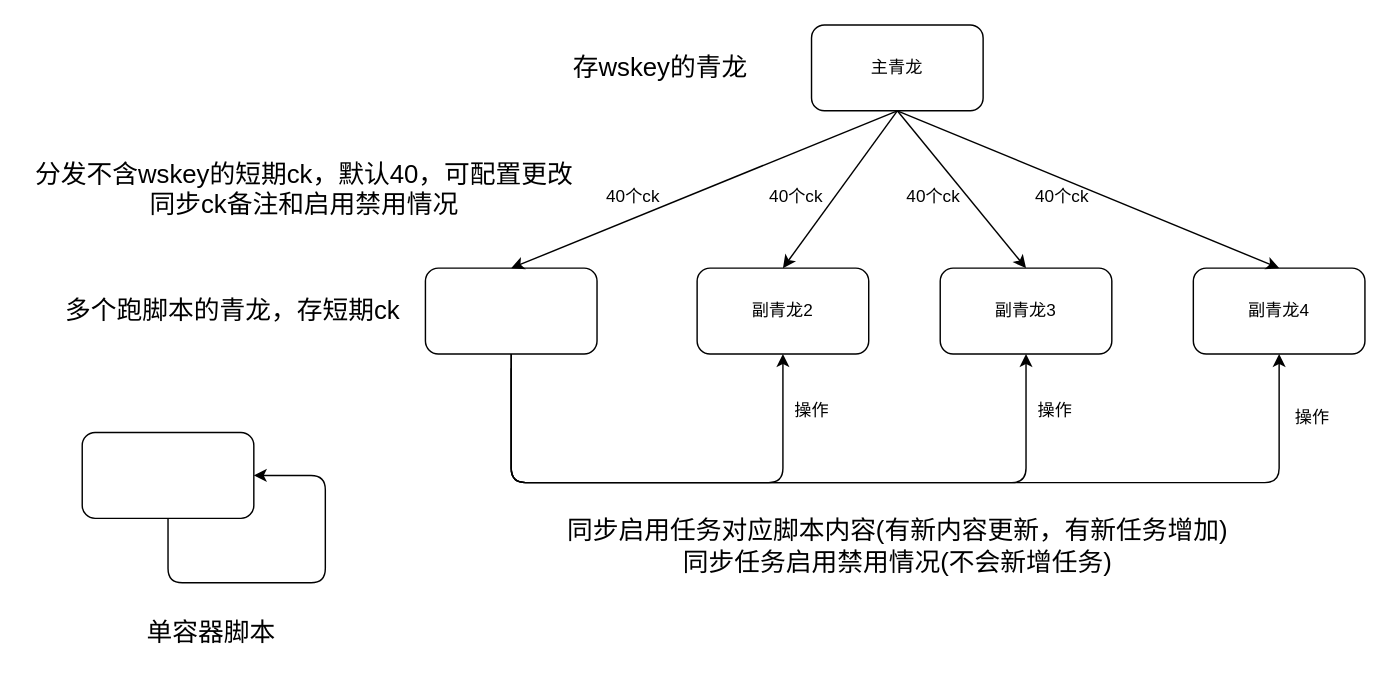
The diagram is 1390 pixels wide and 674 high, and some of its shapes have lost their labels. The shapes that lost their labels are listed below. From the top down, each one's centre as x and y in pixels, then its label:
the point at 510,310: 副青龙1
the point at 167,474: 单个青龙
